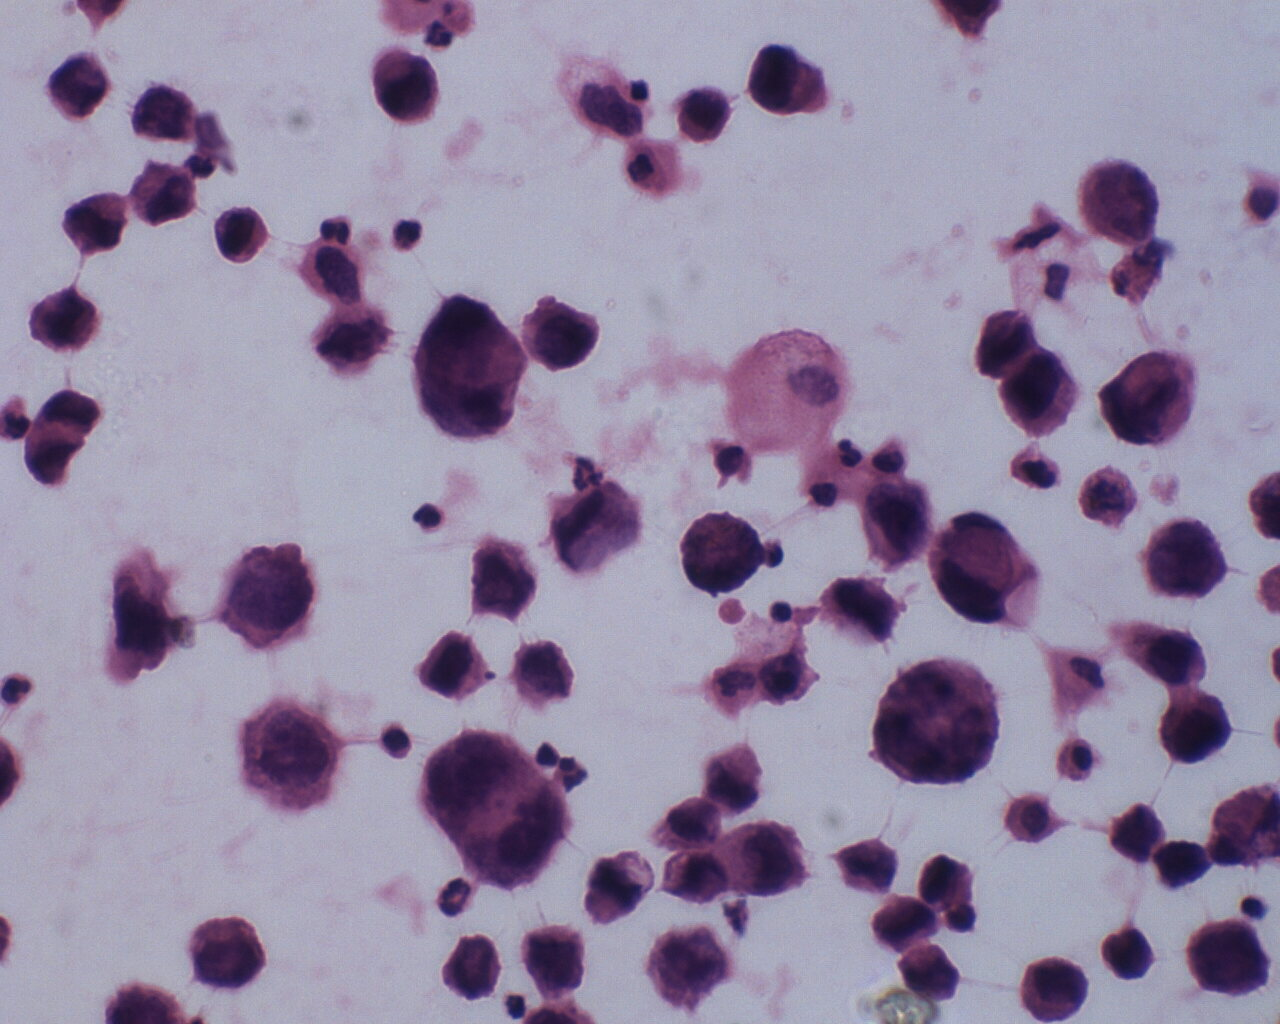ab: (869, 655, 1003, 795), (223, 702, 351, 812), (1141, 514, 1233, 600), (1001, 343, 1081, 440), (677, 512, 765, 599), (722, 817, 816, 898), (1079, 155, 1163, 245), (1186, 910, 1270, 999), (519, 297, 610, 375), (747, 39, 833, 121), (368, 47, 447, 130), (1157, 688, 1237, 768), (187, 914, 269, 991), (413, 627, 490, 705), (25, 284, 104, 356), (497, 633, 578, 704), (518, 922, 589, 999), (1020, 954, 1094, 1022), (46, 50, 115, 122), (209, 200, 277, 266), (129, 82, 197, 147), (440, 928, 502, 1001), (898, 938, 963, 1005), (833, 833, 900, 897), (916, 848, 980, 912), (673, 82, 734, 147)
histo: (718, 322, 850, 455)
meso: (1003, 789, 1060, 846), (1056, 734, 1098, 786)
neutro: (437, 874, 476, 917)
